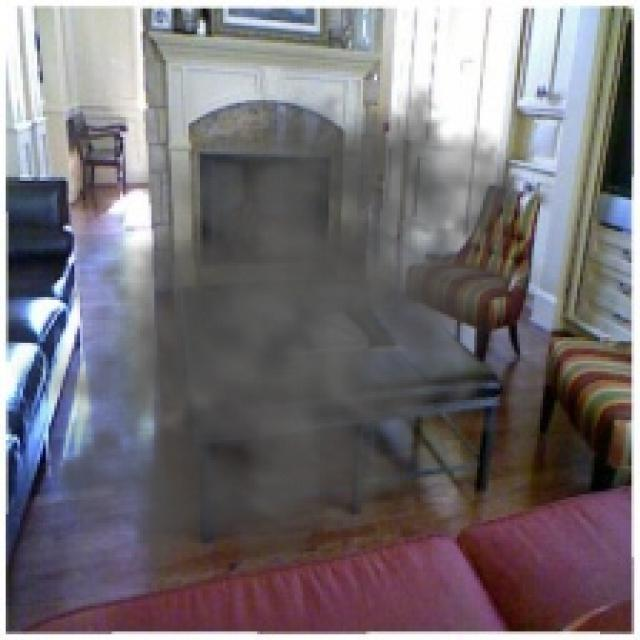Smoke: (11, 51, 563, 614)
